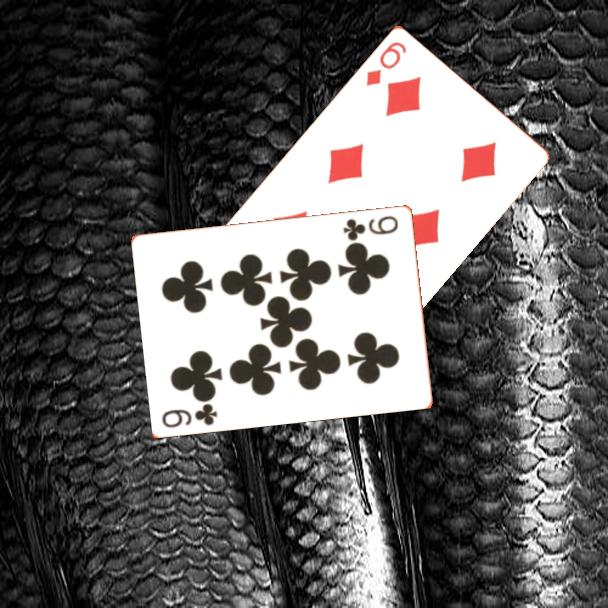c09: (340, 212, 401, 243), (158, 400, 221, 430)
d06: (362, 37, 409, 89)
